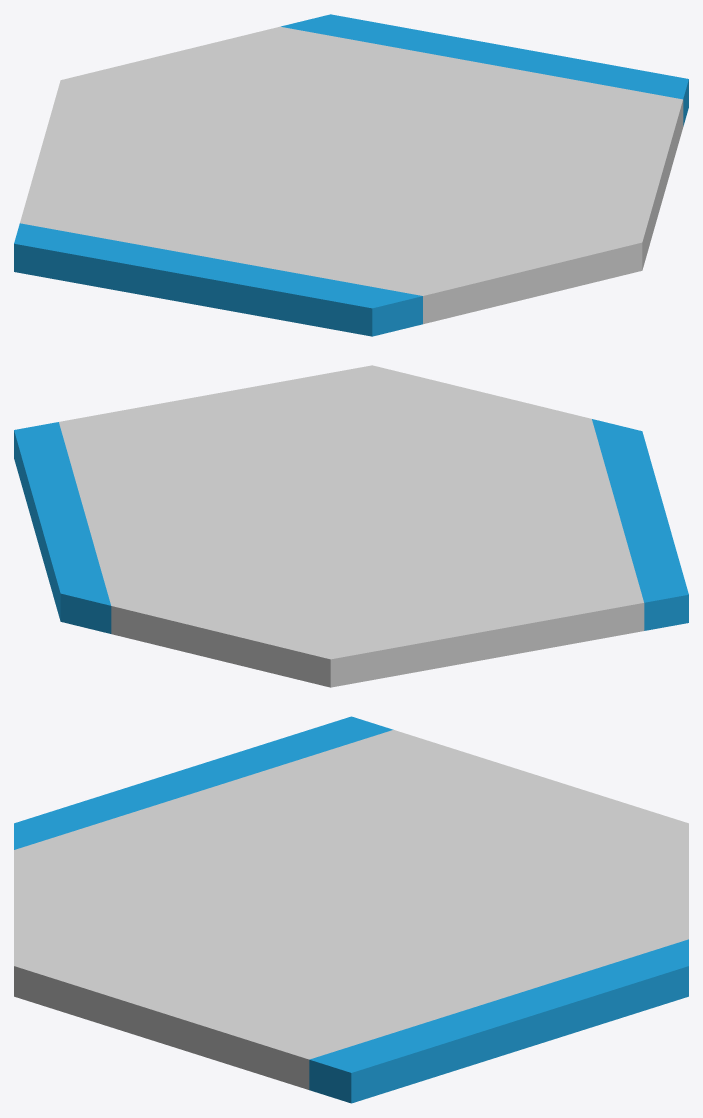
3 views of the same model, one above another, from view 1: azimuth 30°, elevation 25°; view 2: azimuth 150°, elevation 25°; view 3: azimuth 270°, elevation 25° (orthographic). The views are drawn at different scales.
Visible parts, largest first — view 1: Hexagon, SW, NE; view 2: Hexagon, NE, SW; view 3: Hexagon, NE, SW.
Part boxes in pixels (x1,y1,x2,y2): Hexagon: [20, 26, 683, 324]; SW: [14, 223, 422, 336]; NE: [281, 14, 688, 126]; Hexagon: [59, 365, 644, 687]; NE: [14, 422, 111, 633]; SW: [592, 419, 688, 630]; Hexagon: [14, 730, 688, 1089]; NE: [309, 939, 688, 1103]; SW: [14, 716, 393, 849].
Bounding box in the file's own units: 5 × 4 × 0.2.
